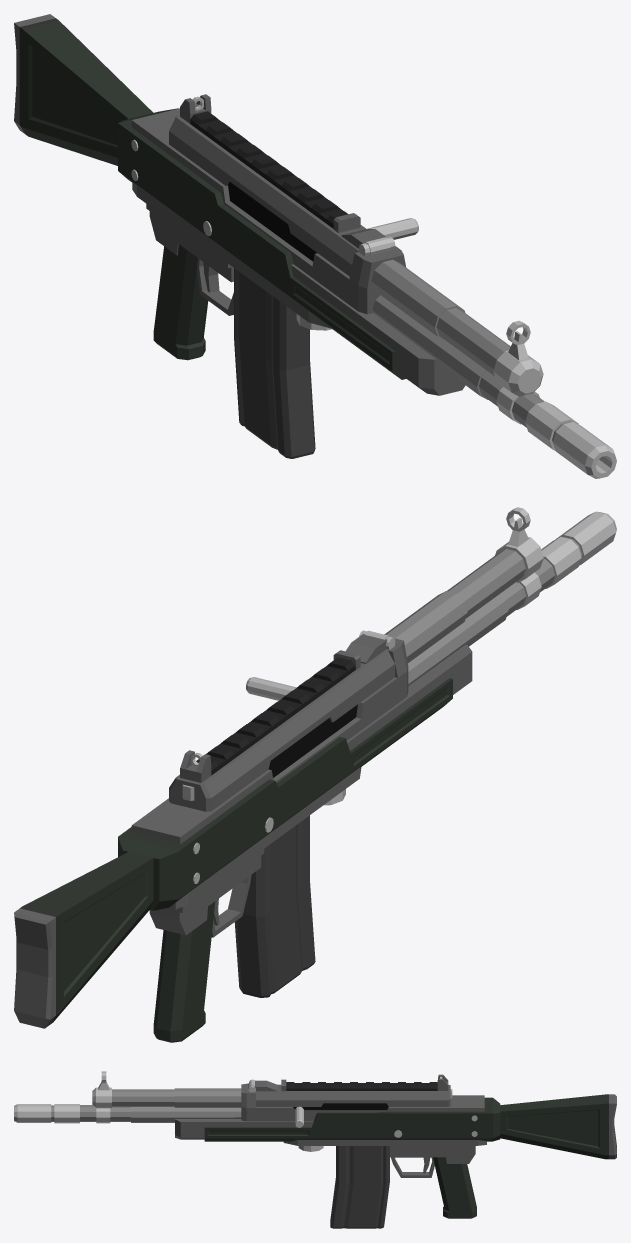
Rendered from AsimovAssaultRifle.fbx.
3 views of the same model, one above another, from view 1: azimuth 30°, elevation 25°; view 2: azimuth 150°, elevation 25°; view 3: azimuth 270°, elevation 25° (orthographic). The views are drawn at different scales.
Visible parts, largest first — view 1: AsimovAssaultRifle; view 2: AsimovAssaultRifle; view 3: AsimovAssaultRifle.
Boxes of the visible parts, x1,y1,x2,y2 form: AsimovAssaultRifle: (14, 14, 616, 478); AsimovAssaultRifle: (14, 507, 616, 1042); AsimovAssaultRifle: (14, 1071, 616, 1228).
Bounding box in the file's own units: 36.52 × 88.83 × 317.
